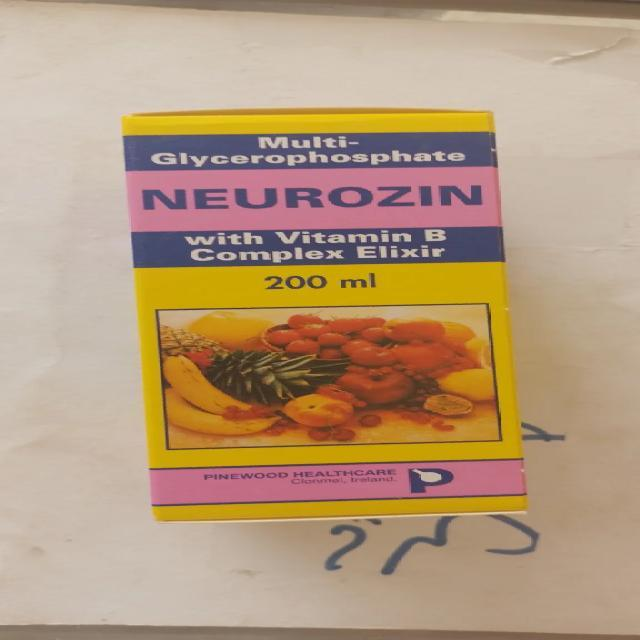drug-name: (136, 179, 484, 214)
